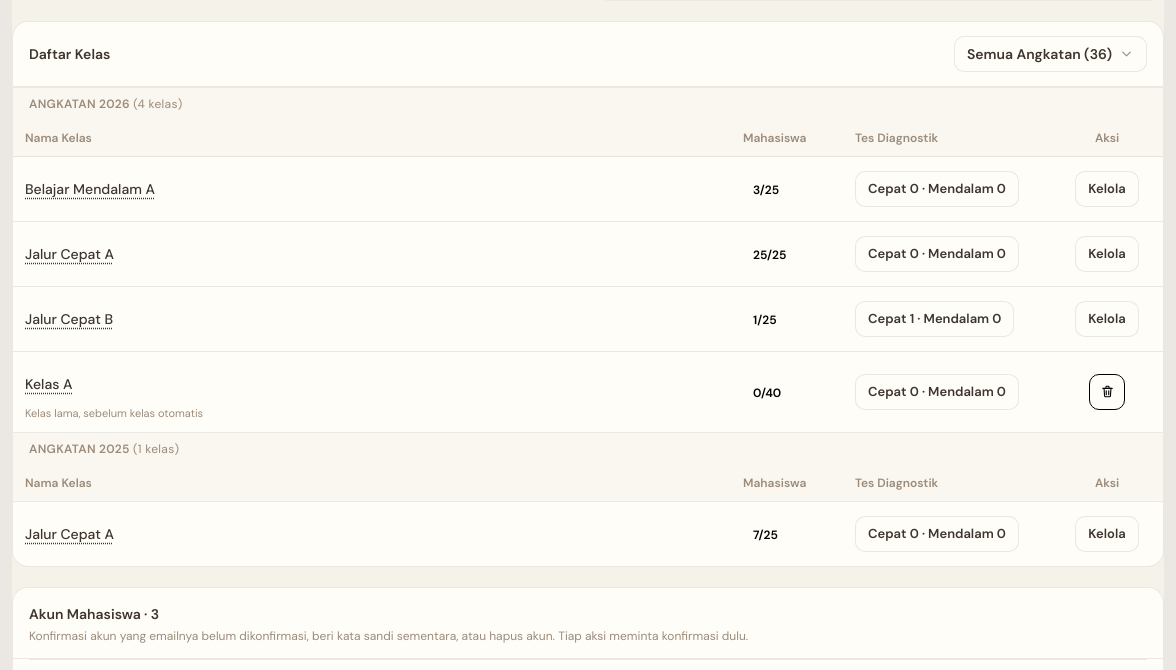
Test: KelasPanel (antrean #228) › Atur Ulang Kata Sandi: hanya untuk satu mahasiswa, minimal 8 karakter, pesan sampaikan ke mahasiswa
This screenshot has width=1176, height=670.
(page scrolled)
Expected: the button "Cepat 1 · Mendalam 0" is shown, left=855, top=301, right=1014, bottom=337
Click the 3rd button "Kelola". click: (1107, 319)
box: left=1075, top=301, right=1139, bottom=337
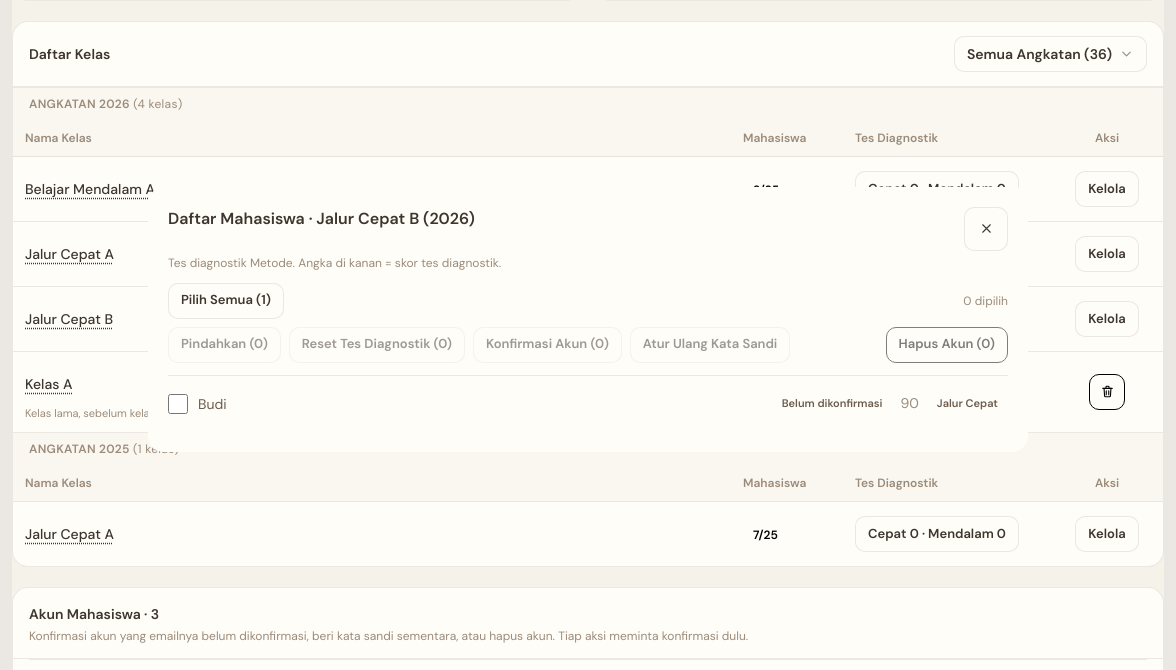
Result: the button "Atur Ulang Kata Sandi" is disabled at left=630, top=326, right=790, bottom=362
Click the checkbox named "Pilih Budi". click: (178, 404)
box: left=168, top=394, right=188, bottom=414
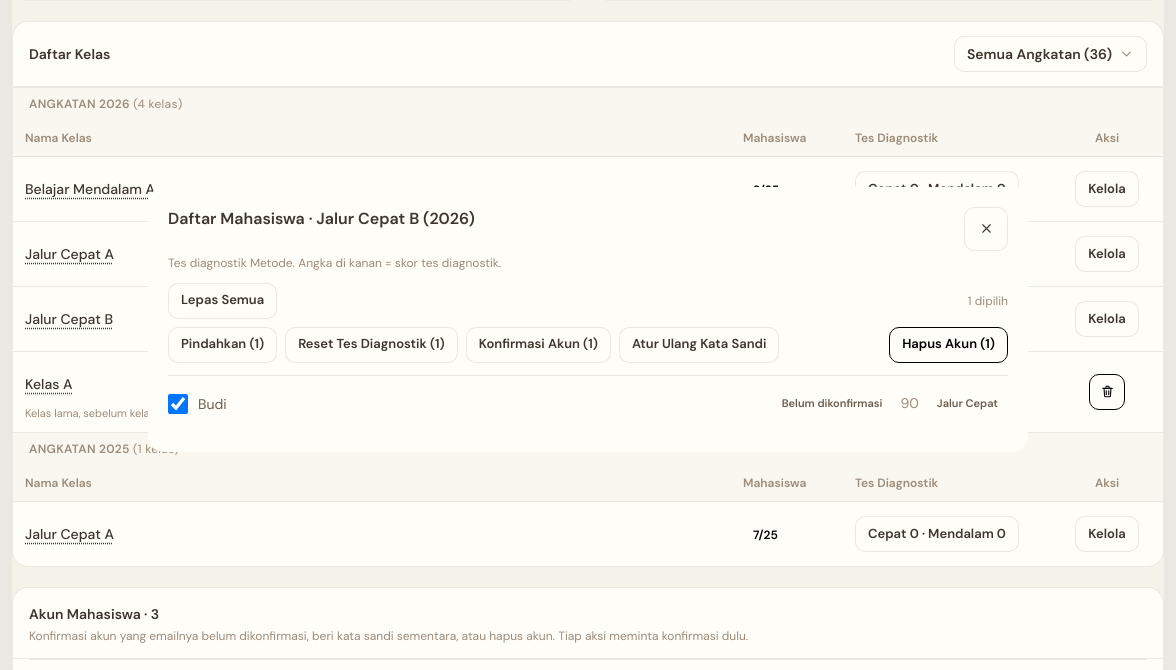
Click the button "Atur Ulang Kata Sandi". click: (699, 344)
box: left=619, top=326, right=779, bottom=362
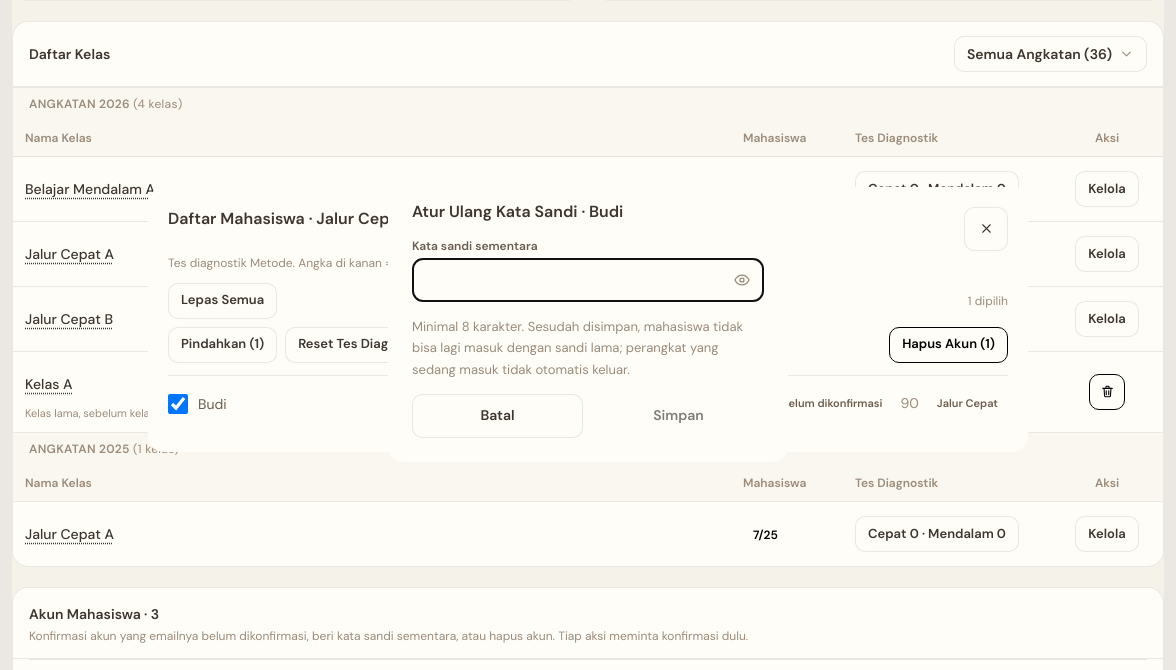
Result: the heading "Atur Ulang Kata Sandi · Budi" is shown at left=412, top=201, right=623, bottom=222
Type "pendek7" into the password field labelled "Kata sandi sementara". click: (588, 280)
box: left=412, top=258, right=764, bottom=302
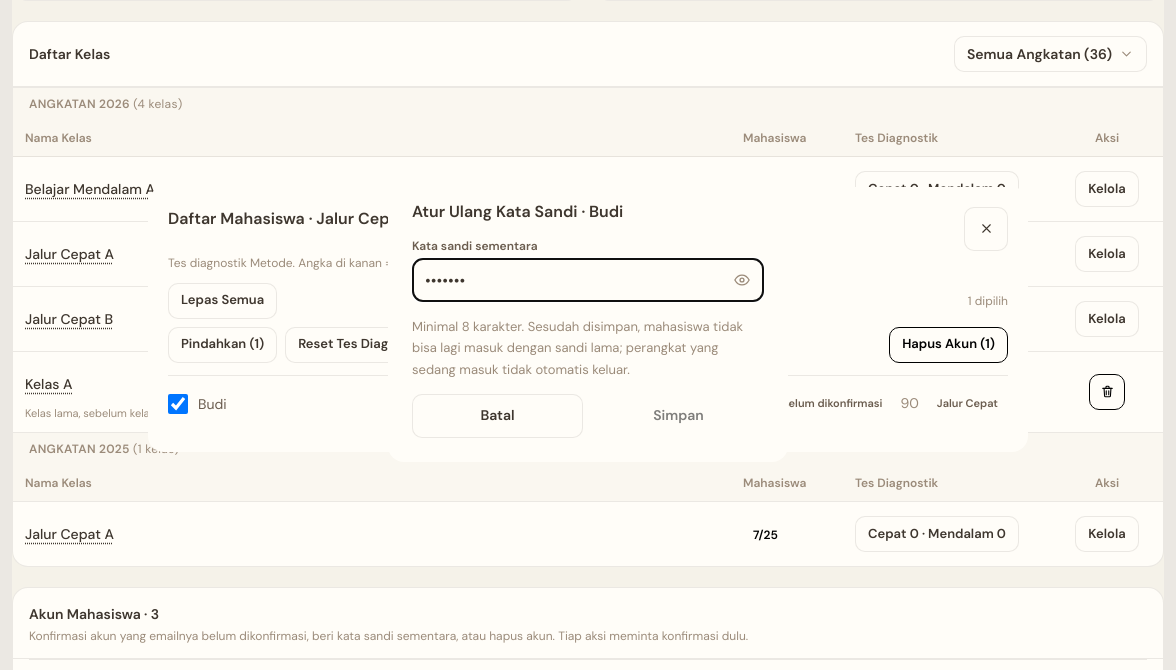
Result: the button "Simpan" is disabled at left=593, top=394, right=764, bottom=438
Type "Sementara1" into the password field labelled "Kata sandi sementara". click: (588, 280)
box: left=412, top=258, right=764, bottom=302
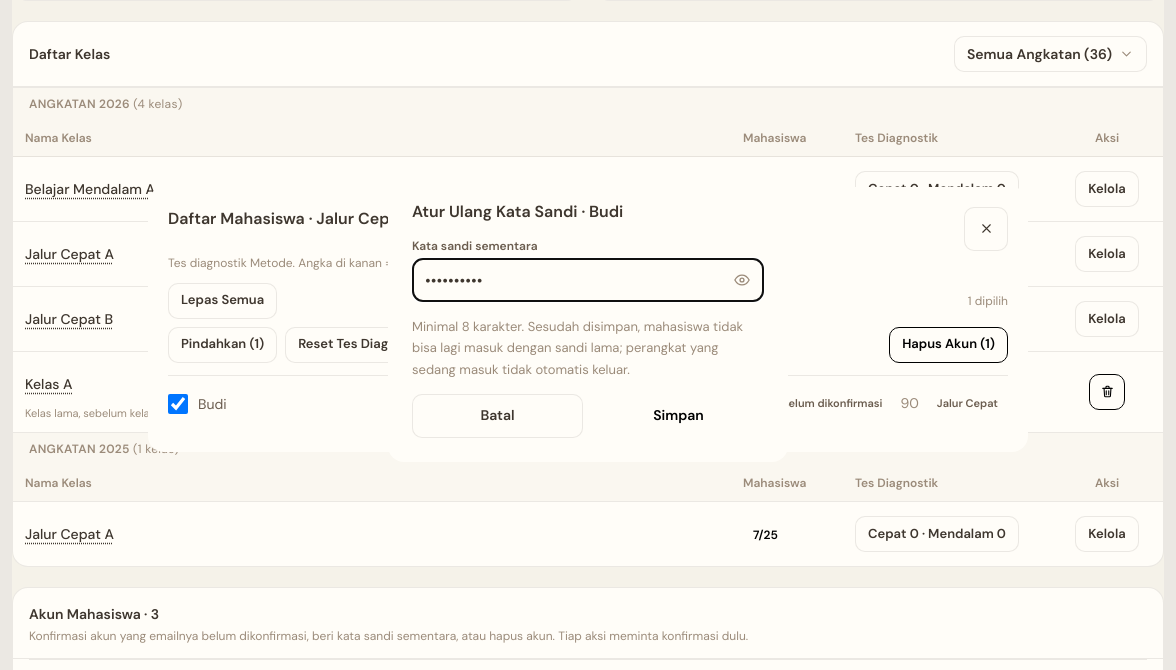
Click the button "Simpan". click: (678, 416)
box: left=593, top=394, right=764, bottom=438
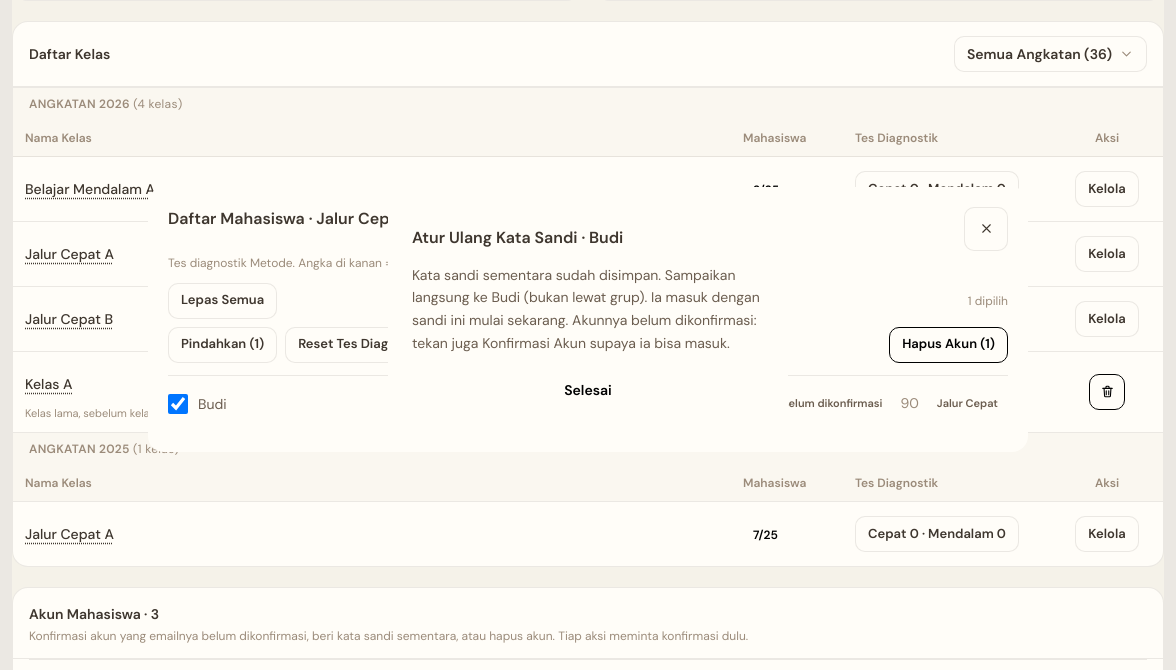
Result: the text "Sampaikan langsung ke Budi" is shown at left=412, top=264, right=764, bottom=354
Result: the text "belum dikonfirmasi: tekan juga Konfirmasi Akun" is shown at left=412, top=311, right=756, bottom=352
